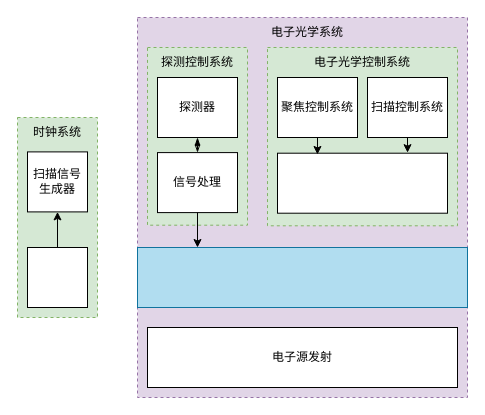
Image size: 485x415. Some labels were removed from this diagram. The centre of each missing label's shape, as x and y in pixels:
"时钟信号" belongs at (x=57, y=277).
"线圈及物镜系统" belongs at (x=362, y=182).
"高速通信总线" belongs at (x=302, y=277).
